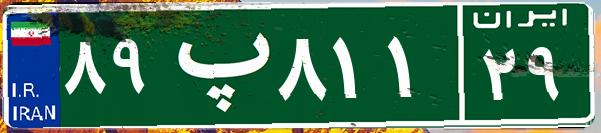1: (385, 28, 445, 110), (330, 28, 385, 110)
2: (475, 38, 525, 113)
8: (273, 28, 330, 110), (57, 26, 110, 107)
9: (110, 28, 158, 105), (525, 38, 570, 115)
پ: (158, 15, 273, 115)
